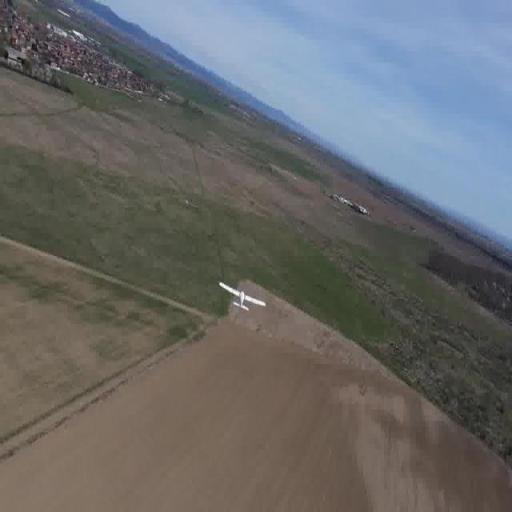uav: (214, 280, 268, 318)
